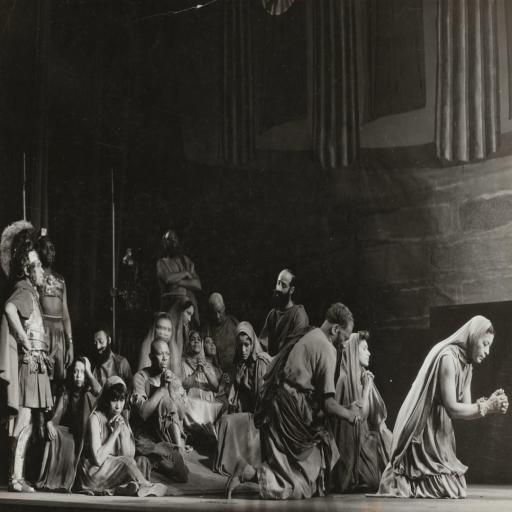face: (273, 270, 294, 308), (472, 333, 493, 363), (26, 251, 44, 286), (332, 322, 353, 351), (150, 341, 169, 371), (38, 239, 54, 266), (276, 270, 293, 294), (164, 230, 181, 254), (237, 333, 252, 360), (155, 318, 172, 341), (93, 331, 109, 354), (210, 301, 225, 325), (73, 361, 85, 389), (359, 340, 370, 367), (109, 399, 125, 417), (190, 332, 202, 354), (204, 337, 216, 357), (182, 306, 193, 325)
